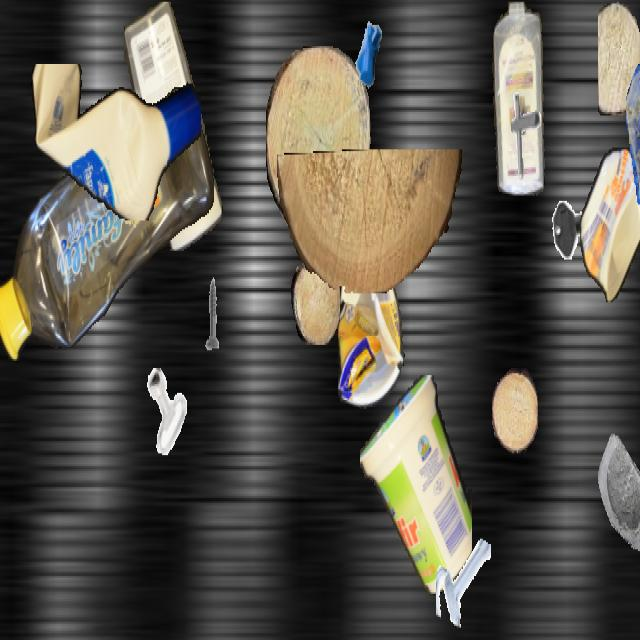glass: (585, 418, 640, 549), (626, 52, 640, 208)
metal: (341, 2, 395, 98), (436, 530, 490, 626), (496, 87, 550, 183), (141, 368, 189, 453), (550, 190, 592, 265), (191, 276, 233, 350), (98, 183, 136, 251)
plastic: (0, 83, 214, 364), (28, 64, 200, 220), (120, 2, 226, 250), (360, 375, 472, 596), (338, 235, 406, 409), (490, 2, 548, 194), (580, 147, 640, 300)
wood: (277, 150, 463, 292), (266, 46, 370, 231), (598, 1, 640, 116), (291, 258, 339, 343), (492, 368, 538, 453)
